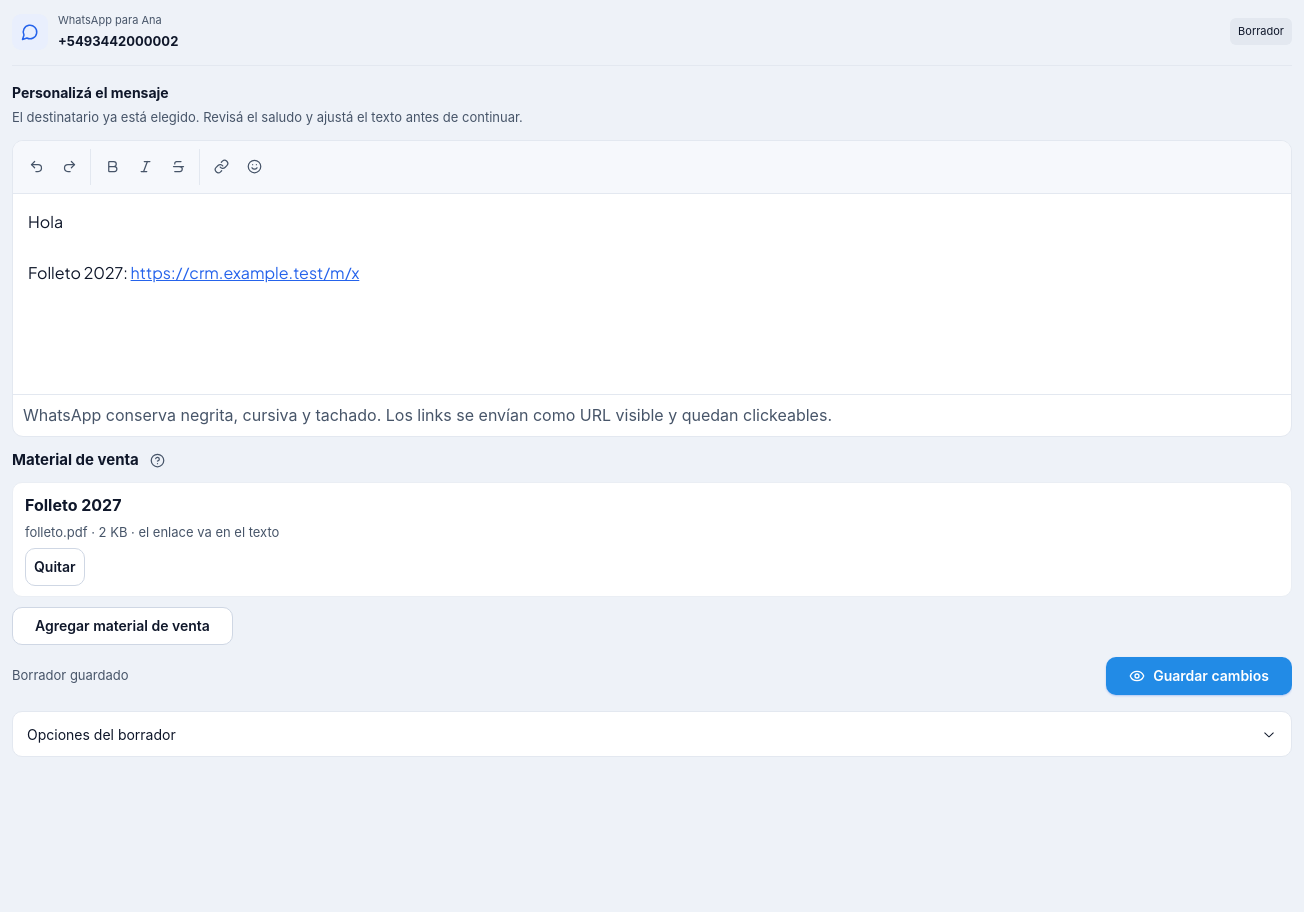
MessageComposer sales material (spec 89 §8.2) › keeps the draft editable when a material action fails for another reason
What coordinates should you click on to do the following:
click the button "Quitar"
I would click on:
 (55, 567)
Its box is [25,548,85,586].
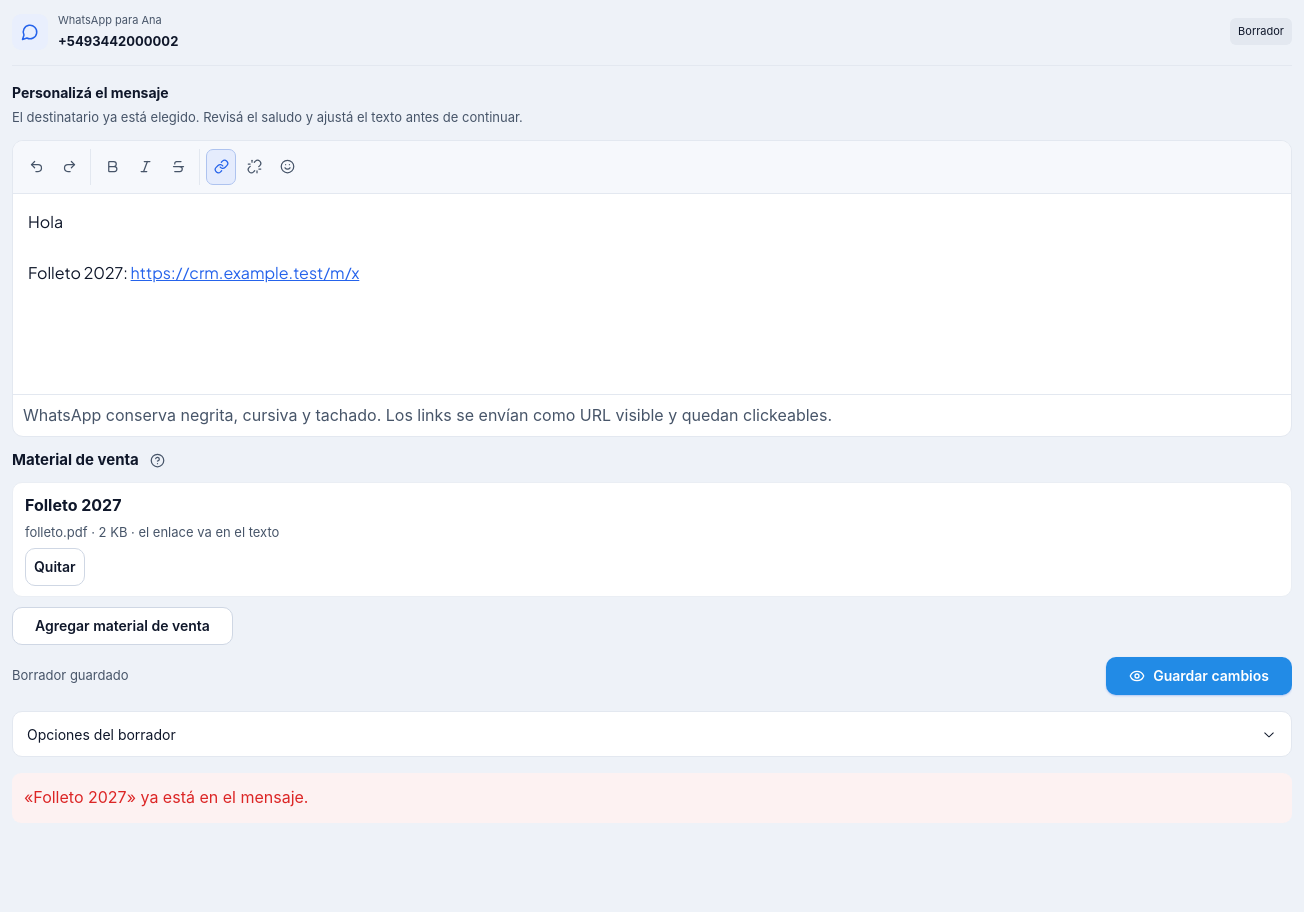
Expected: the heading "Personalizá el mensaje" is shown, [12,84,169,101]
Expected: the text "«Folleto 2027» ya está en el mensaje." is shown, [12,773,1292,823]
